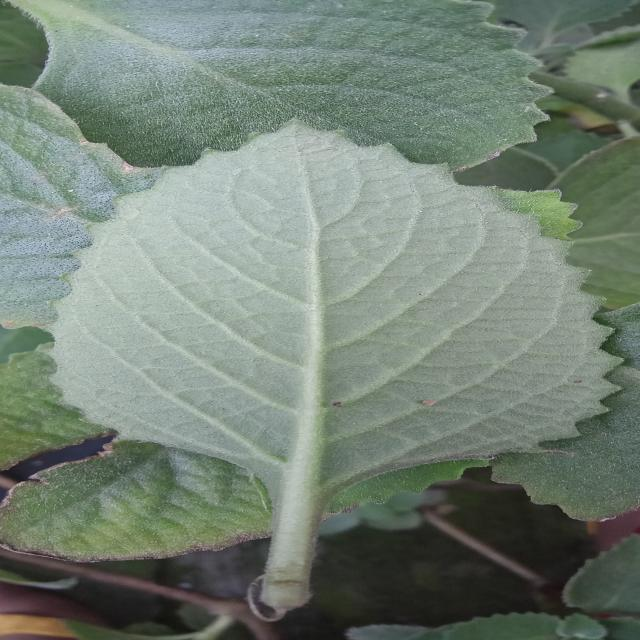Oregano: (42, 112, 630, 532)
